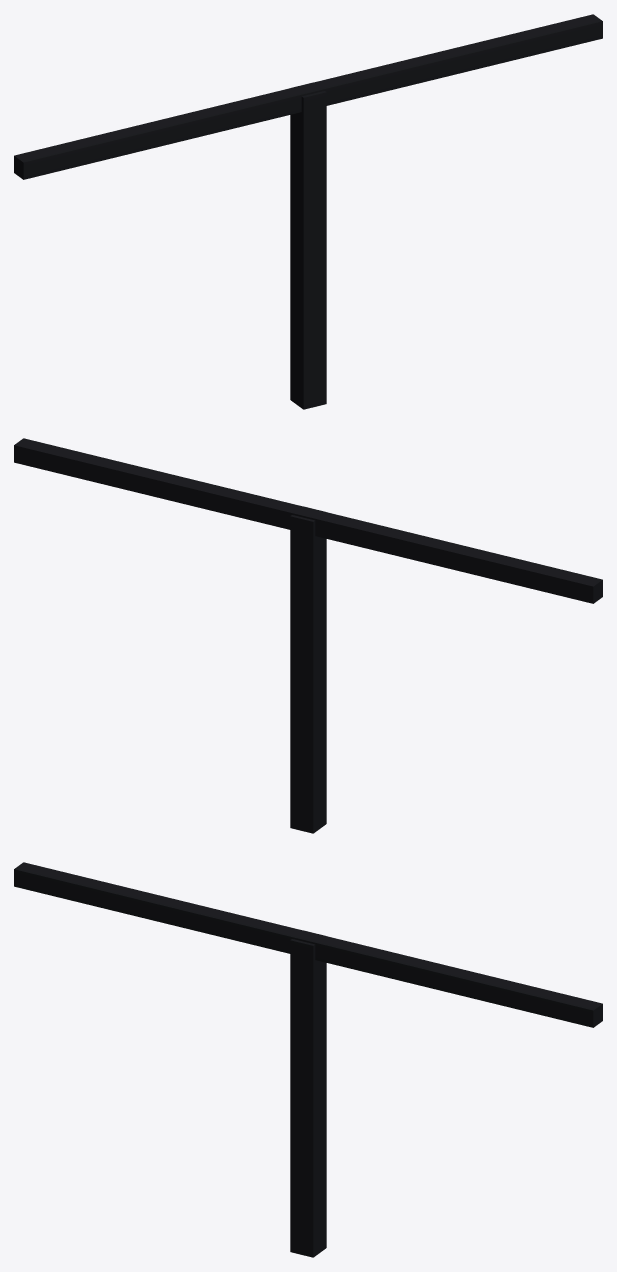
The model's file is RailSeg.obj.
3 views of the same model, one above another, from view 1: azimuth 30°, elevation 25°; view 2: azimuth 150°, elevation 25°; view 3: azimuth 330°, elevation 25° (orthographic).
Parts seen in each view (by area): view 1: RailSeg; view 2: RailSeg; view 3: RailSeg.
Boxes of the visible parts, left/top/right/bottom form: RailSeg: left=14, top=14, right=602, bottom=409; RailSeg: left=14, top=438, right=602, bottom=833; RailSeg: left=14, top=862, right=602, bottom=1257.
Size of the model in its own units: 1.75 by 0.905 by 0.07.
Materials: 1 (1 with a texture image).
